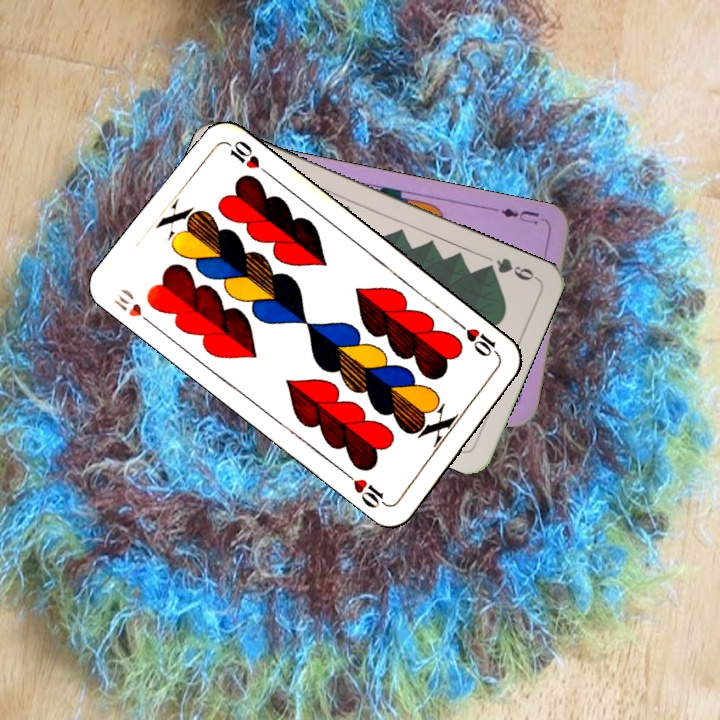EU: (497, 203, 550, 227)
G9: (480, 254, 540, 283)
H10: (111, 284, 158, 330), (453, 318, 503, 360)
